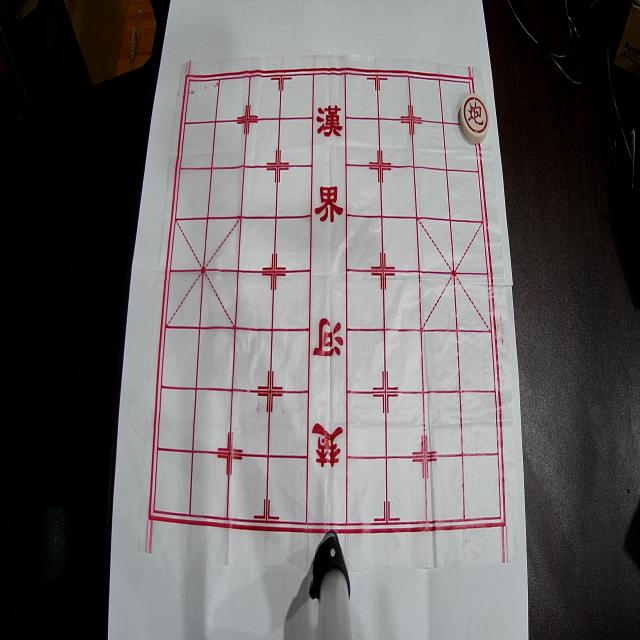red-cannon: (460, 94, 490, 144)
